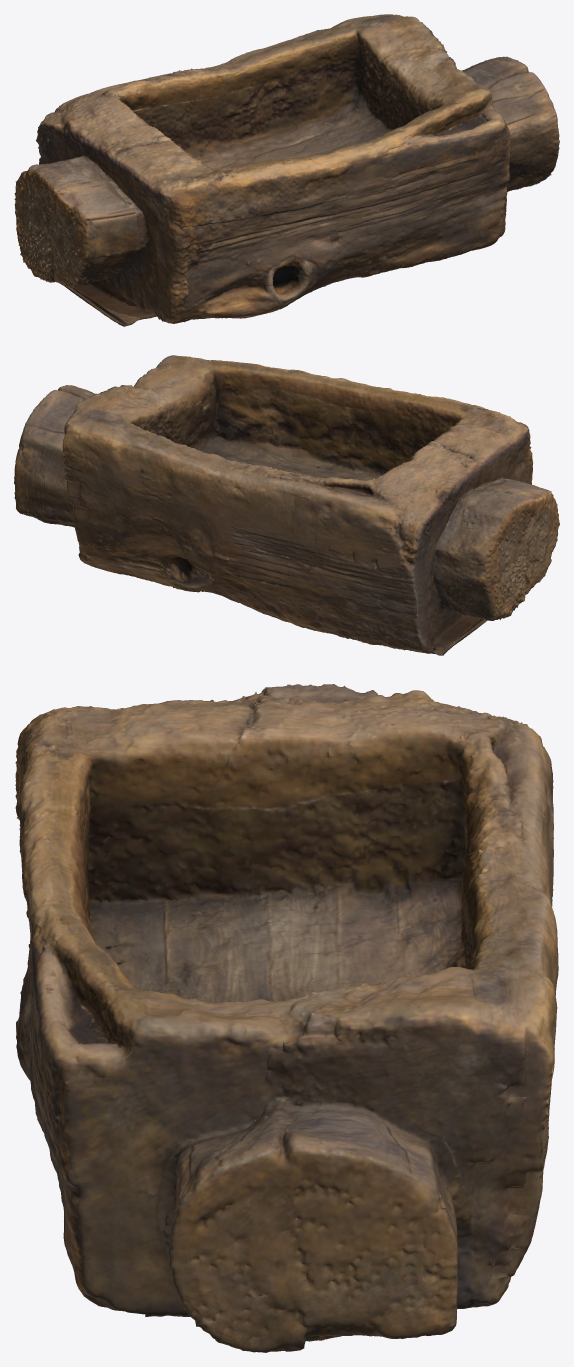
The model's file is bank_original.glb.
3 views of the same model, one above another, from view 1: azimuth 30°, elevation 25°; view 2: azimuth 150°, elevation 25°; view 3: azimuth 270°, elevation 25° (orthographic). The views are drawn at different scales.
Size of the model in its own units: 2 by 0.6866 by 0.99.
1 material, 1 textured.
